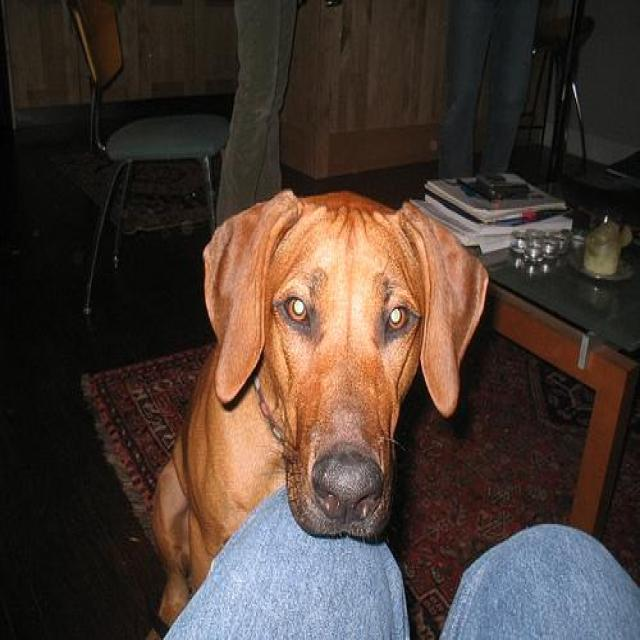rhodesian_ridgeback: (136, 186, 494, 638)
